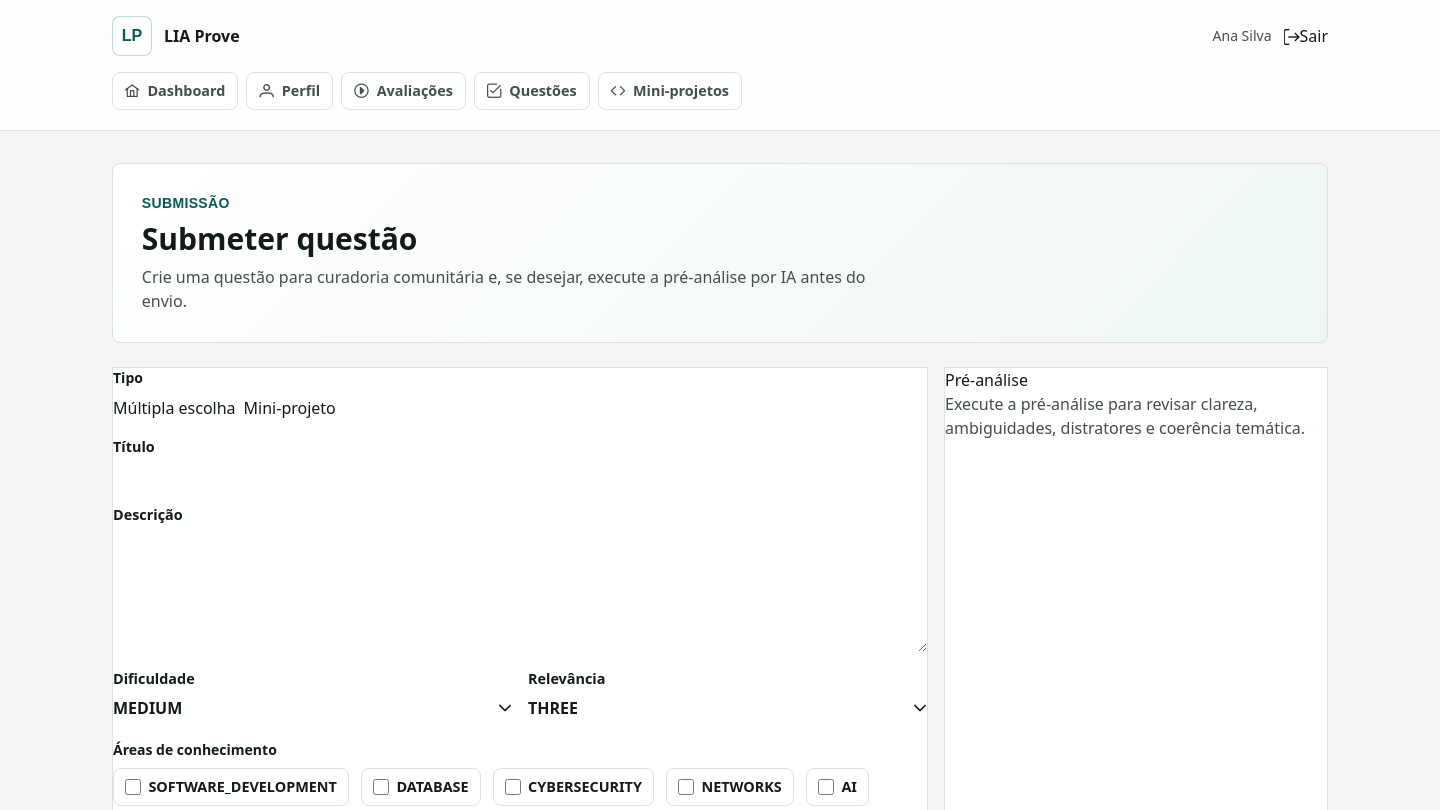
Test: QuestionSubmissionView › validates only common fields for a mini-project submission
Click the button with test id "question-type-PROJECT" at {"x": 290, "y": 408}, box [244, 396, 336, 420]
(page scrolled)
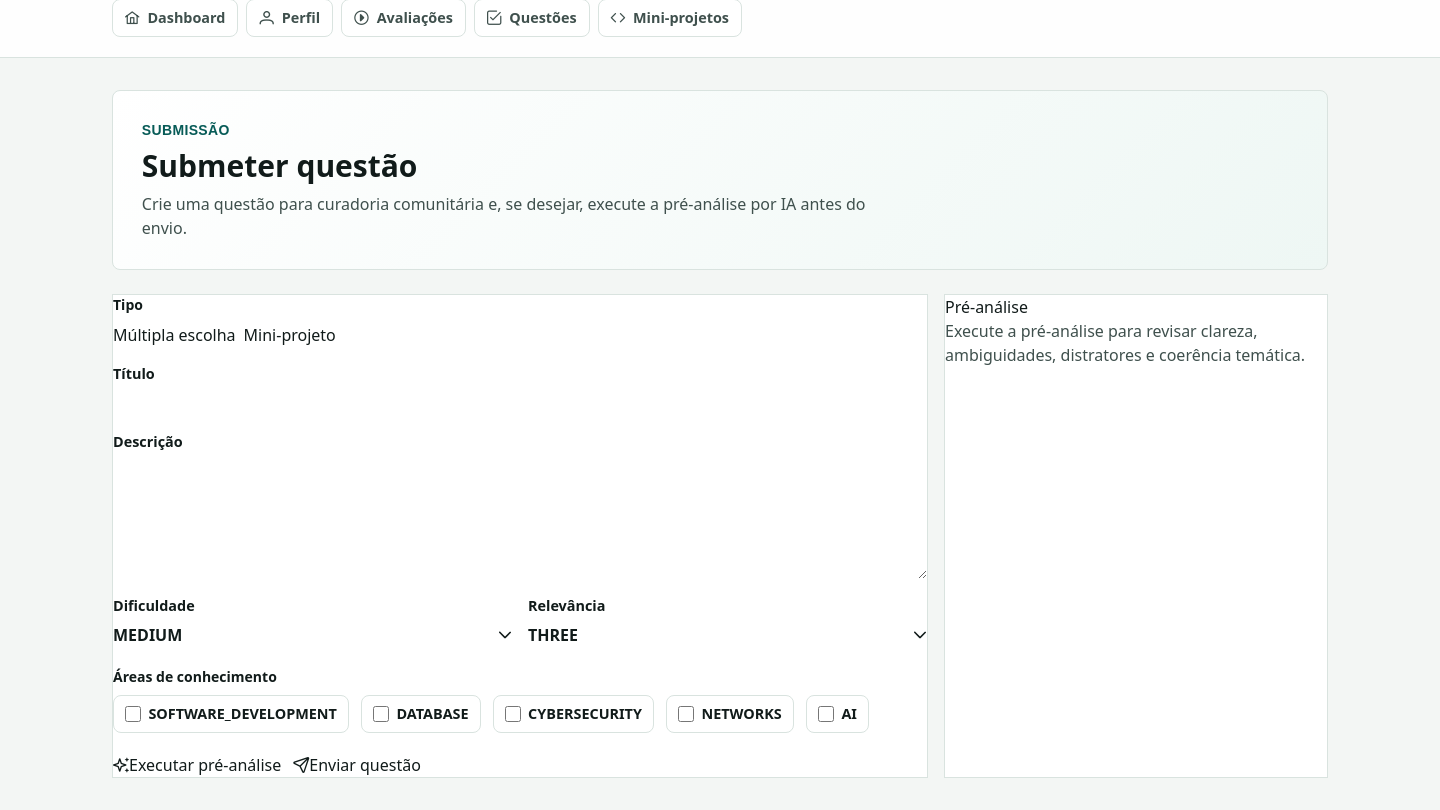
Click the button with test id "pre-analyze-question" at {"x": 197, "y": 765}, box [113, 753, 281, 777]
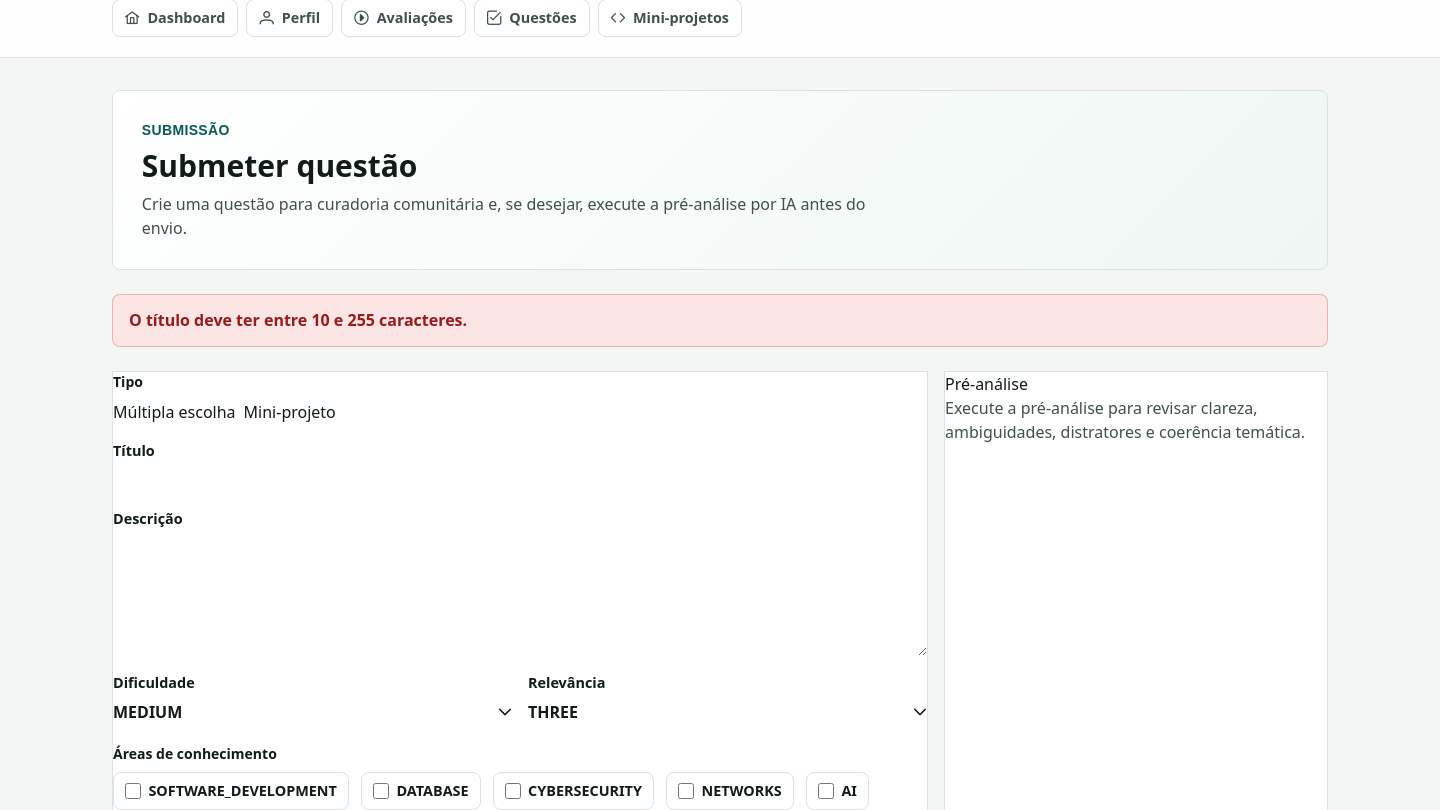
Expected: the text "O título deve ter entre 10 e 255 caracteres." is shown, [112, 294, 1328, 347]
